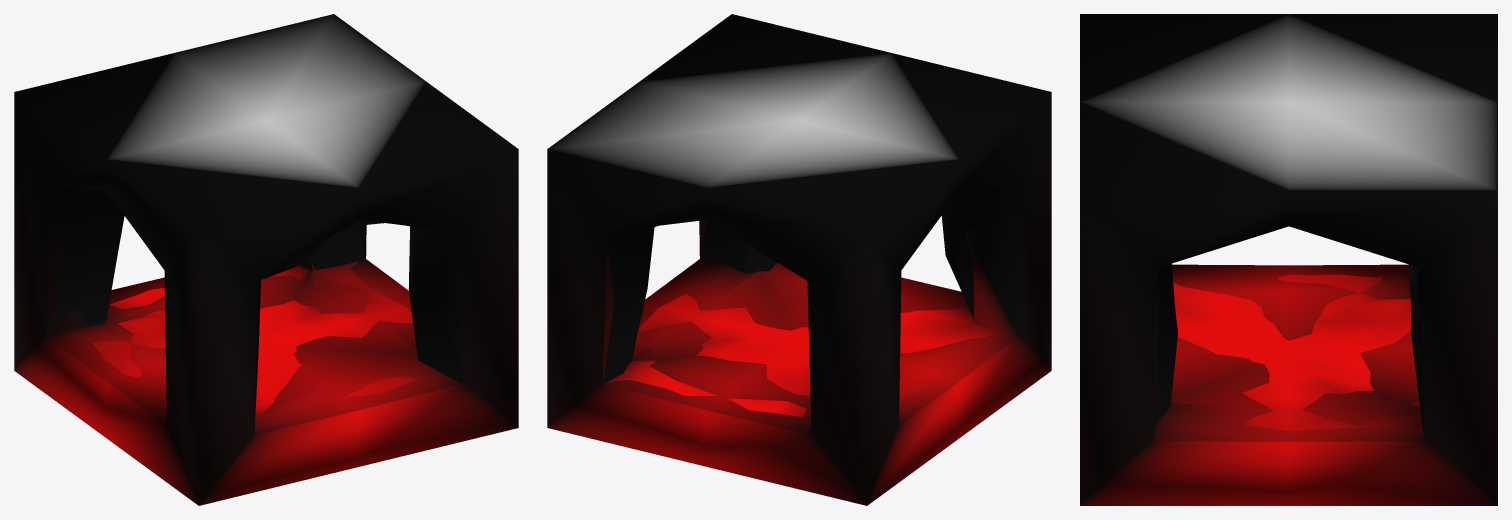
Rendered from JD_Cave_A_Tunnel_4x4_4Way_01.fbx.
3 views of the same model, side by side, from view 1: azimuth 30°, elevation 25°; view 2: azimuth 150°, elevation 25°; view 3: azimuth 270°, elevation 25° (orthographic). The views are drawn at different scales.
Parts seen in each view (by area): view 1: C_JD_Cave_A_Tunnel_4x4_4Way_01, JD_Cave_A_Tunnel_4x4_4Way_01; view 2: C_JD_Cave_A_Tunnel_4x4_4Way_01, JD_Cave_A_Tunnel_4x4_4Way_01; view 3: C_JD_Cave_A_Tunnel_4x4_4Way_01, JD_Cave_A_Tunnel_4x4_4Way_01.
Boxes of the visible parts, x1=… form: C_JD_Cave_A_Tunnel_4x4_4Way_01: x1=14, y1=14, x2=518, y2=505; JD_Cave_A_Tunnel_4x4_4Way_01: x1=46, y1=185, x2=462, y2=434; C_JD_Cave_A_Tunnel_4x4_4Way_01: x1=547, y1=14, x2=1051, y2=505; JD_Cave_A_Tunnel_4x4_4Way_01: x1=603, y1=189, x2=1008, y2=416; C_JD_Cave_A_Tunnel_4x4_4Way_01: x1=1080, y1=14, x2=1497, y2=505; JD_Cave_A_Tunnel_4x4_4Way_01: x1=1152, y1=263, x2=1425, y2=440.
Bounding box in the file's own units: 6 × 5 × 6.
